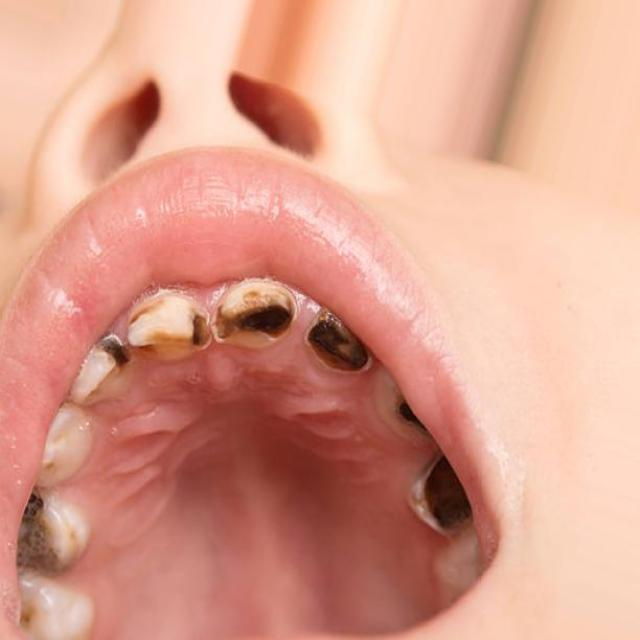caries: (407, 444, 486, 546), (210, 275, 298, 356), (4, 485, 86, 571), (298, 305, 372, 385), (132, 292, 215, 363), (380, 376, 430, 440), (83, 326, 136, 381)
